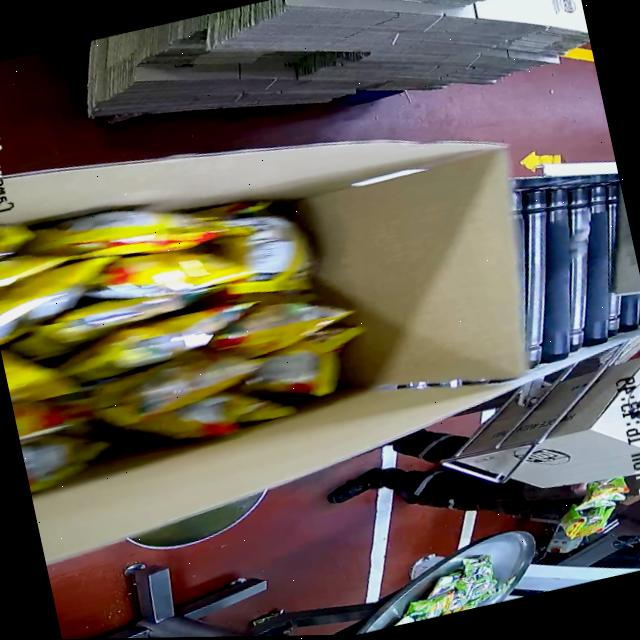SALTED: (0, 148, 368, 472)
